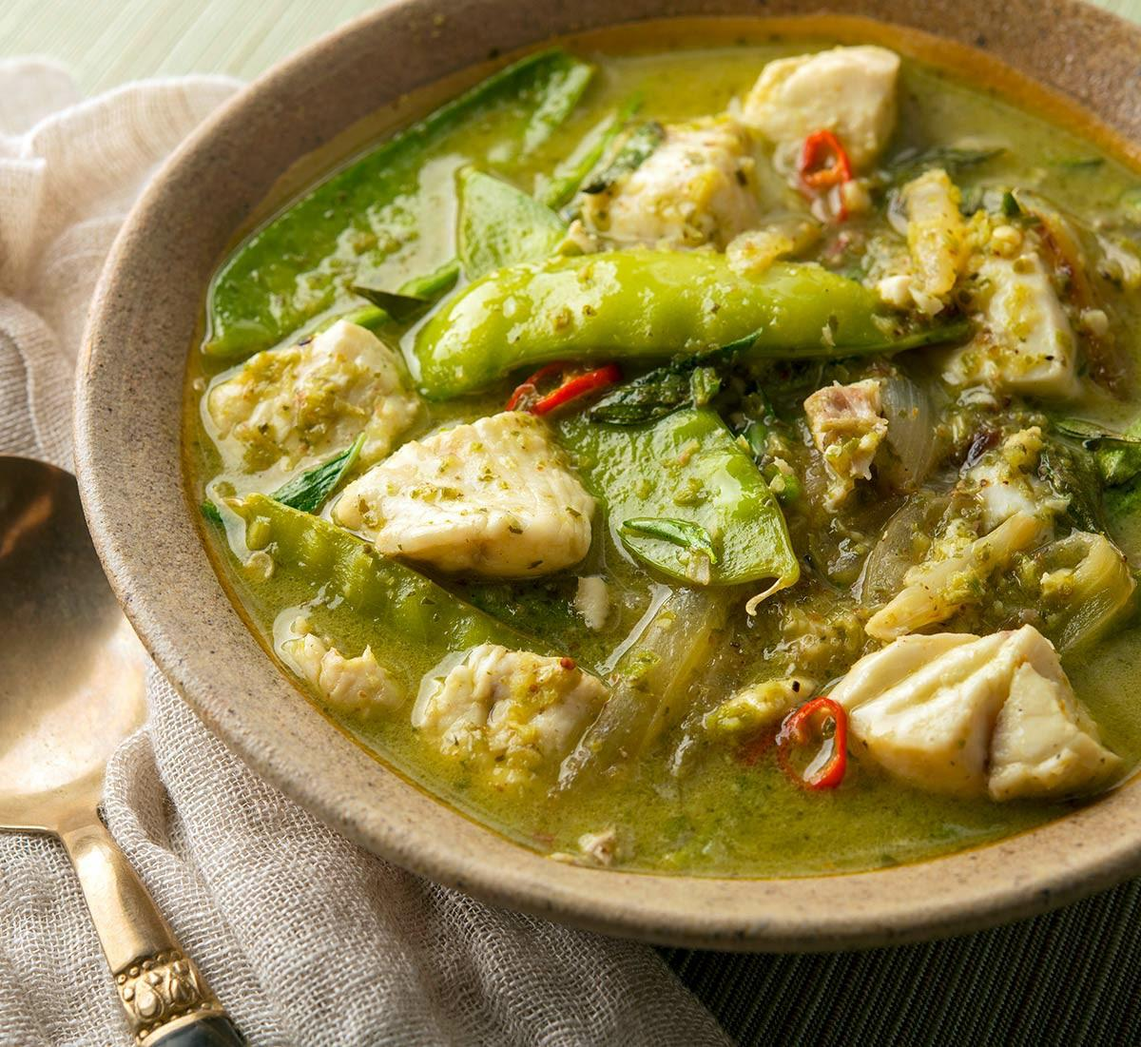FishCurry: (186, 37, 1141, 872)
